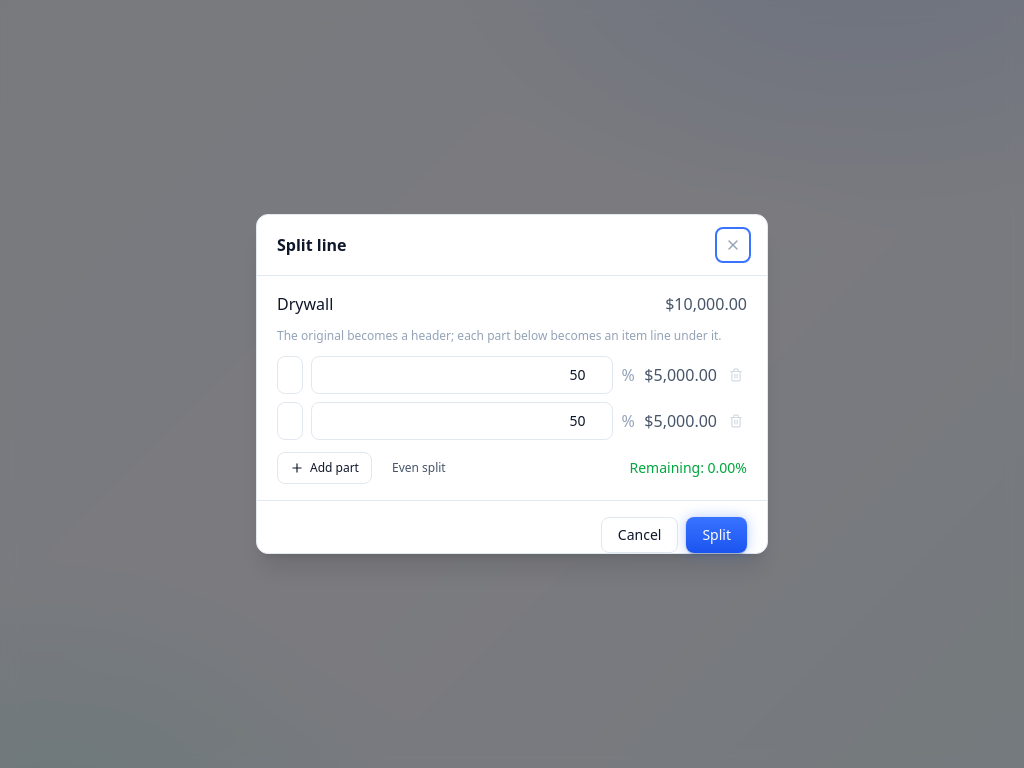
SplitSovLineModal › starts with two 50/50 parts, previews dollars, and enables Split only at exactly 100%
Expected: the text "Drywall" is shown, x1=277 y1=292 x2=333 y2=316
Expected: the text "$10,000.00" is shown, x1=665 y1=292 x2=747 y2=316
Clear the number field with test id "split-part-percent": coordinates (462, 375) x1=311 y1=356 x2=613 y2=394
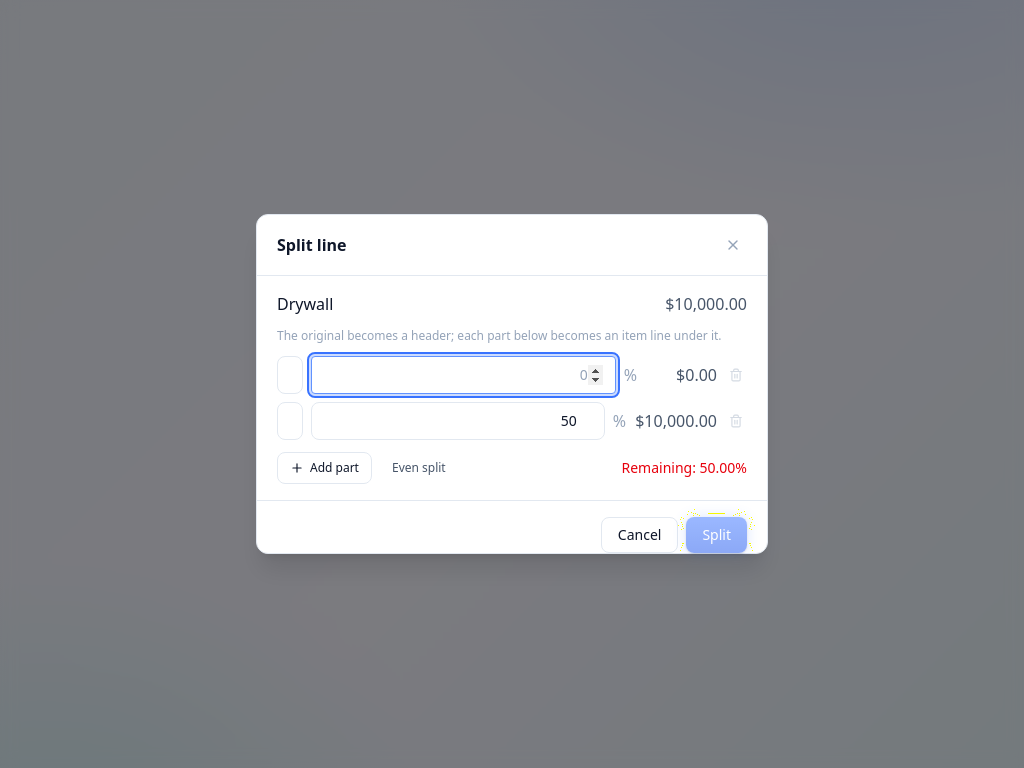
In the number field with test id "split-part-percent": coordinates (463, 375) x1=311 y1=356 x2=616 y2=394, type "60"
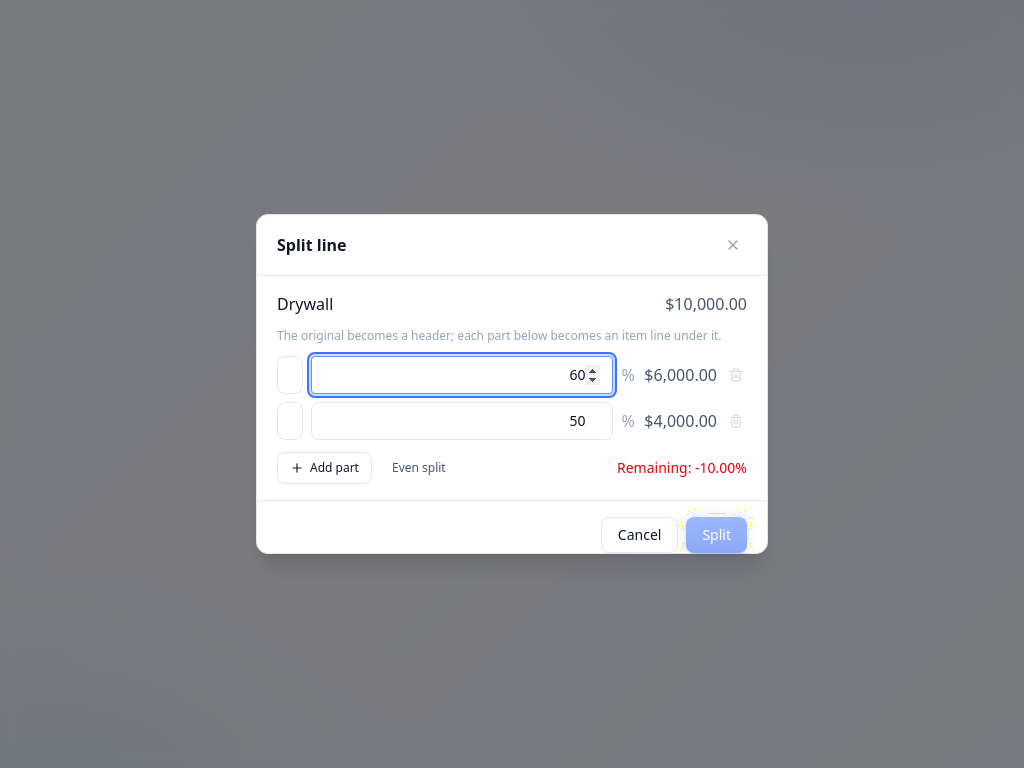
Expected: the button with test id "split-submit" is disabled, x1=686 y1=517 x2=747 y2=553
Expected: the text with test id "split-remaining" shows "-10.00%", x1=617 y1=458 x2=747 y2=478
Replace the text in the number field with test id "split-part-percent" with "40": coordinates (462, 421) x1=311 y1=402 x2=613 y2=440
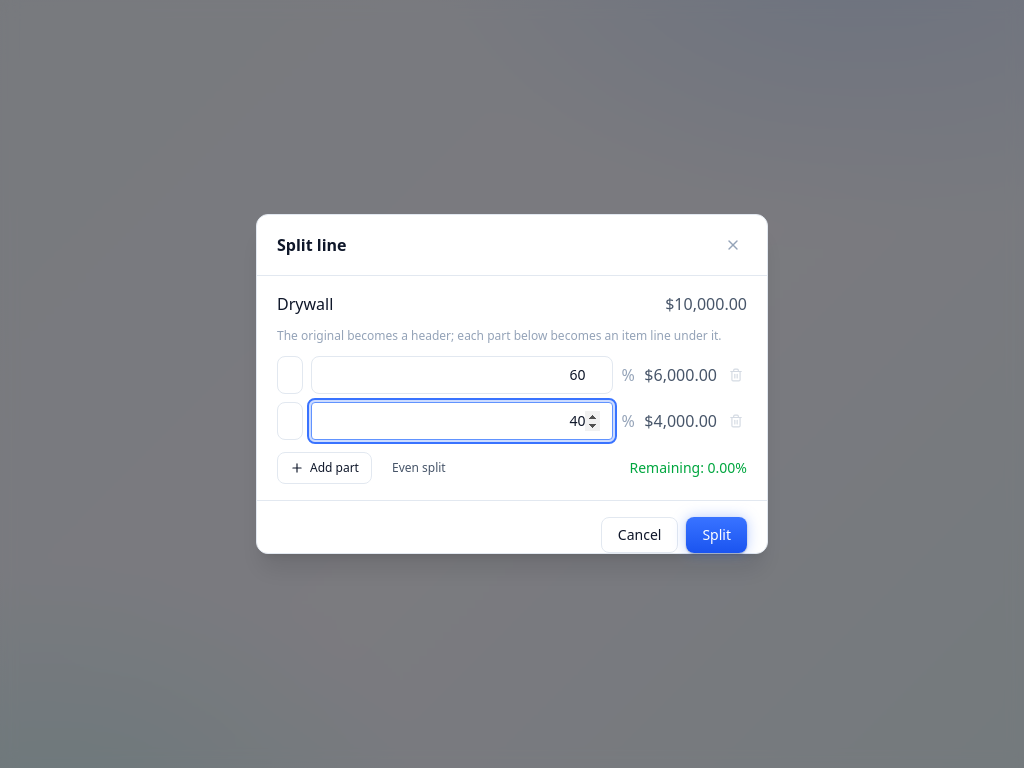
Expected: the button with test id "split-submit" is enabled, x1=686 y1=517 x2=747 y2=553
